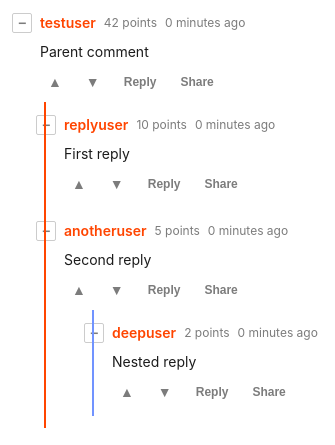
Scenario: Comment Component › collapsing parent comment hides all nested replies
This screenshot has width=335, height=445.
Expected: the text "First reply" is shown, left=64, top=145, right=130, bottom=162
Expected: the text "Second reply" is shown, left=64, top=251, right=151, bottom=268
# Find and click the collapse button on parent comment
Click the button named "collapse" at (22, 22), box left=12, top=12, right=32, bottom=32
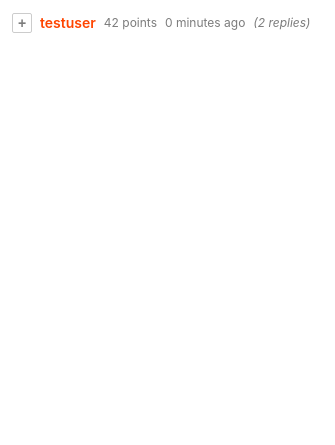
Expected: the text "First reply" is gone
Expected: the text "Second reply" is gone
Expected: the text "Nested reply" is gone
